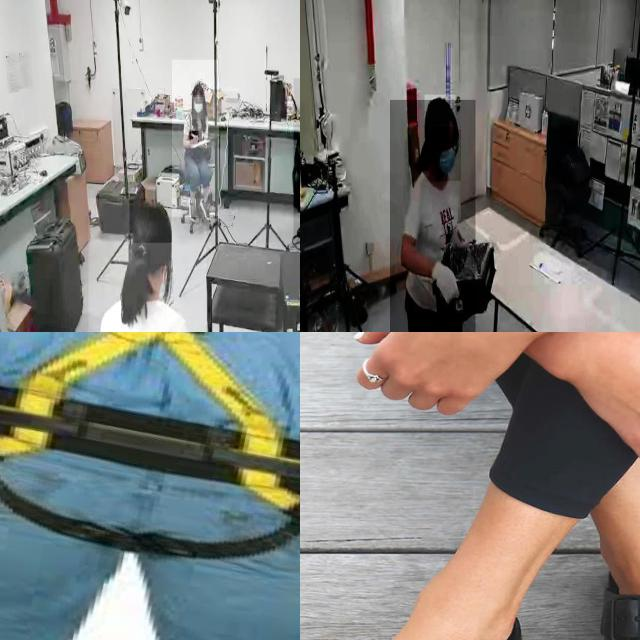Harness: (15, 332, 300, 510), (0, 424, 56, 456)
face_mask: (429, 129, 461, 181), (192, 97, 204, 119)
hand_glove: (428, 257, 466, 310)
hand_noglove: (189, 131, 199, 145)
head_nohelmet: (130, 198, 172, 244), (424, 94, 456, 128), (191, 83, 204, 96)
person: (390, 99, 476, 332), (88, 198, 206, 332), (172, 60, 220, 217)
shoes: (198, 196, 214, 222)
